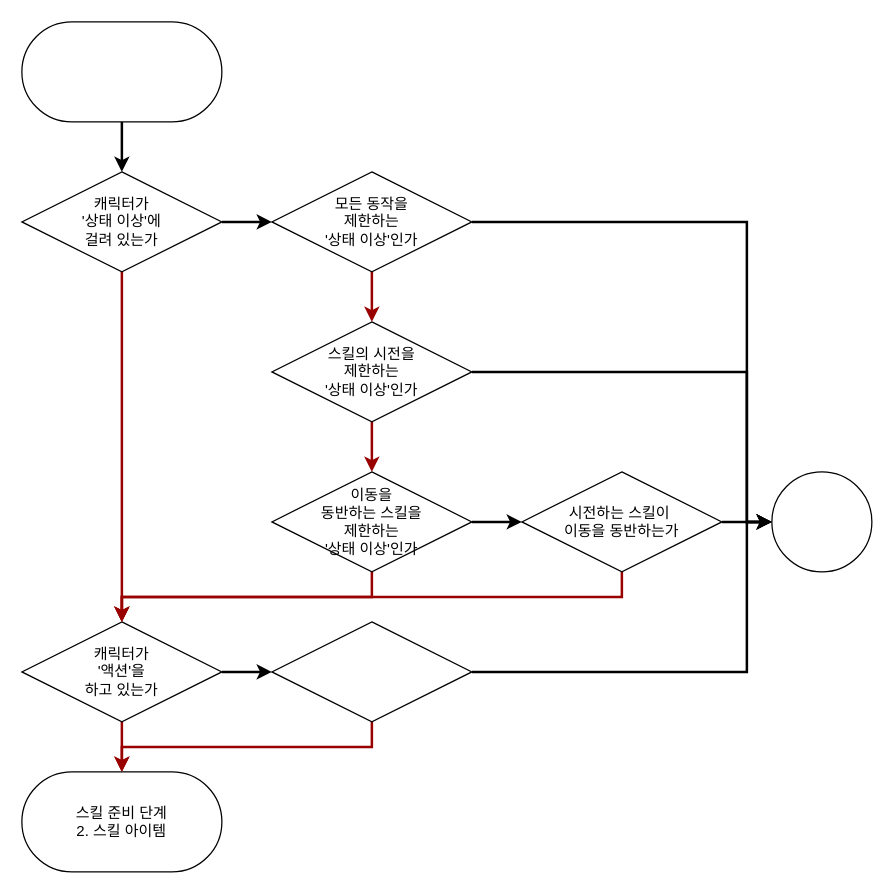
Image size: 894x894. Some labels were removed from this diagram. The centre of each missing label's shape, as x and y in pixels:
"스킬 준비 단계 1. 캐릭터 상태 시작" goes at pixel 121 71.
"스킬을 시전할 수 없는 '액션'인가" goes at pixel 371 671.
"종료" goes at pixel 821 521.
